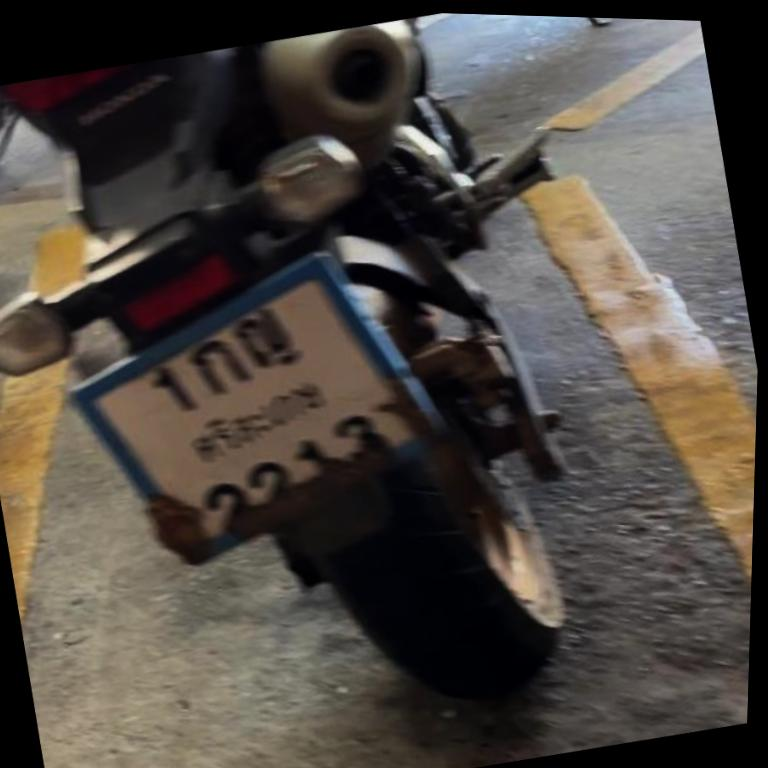license plate: (32, 225, 461, 591)
